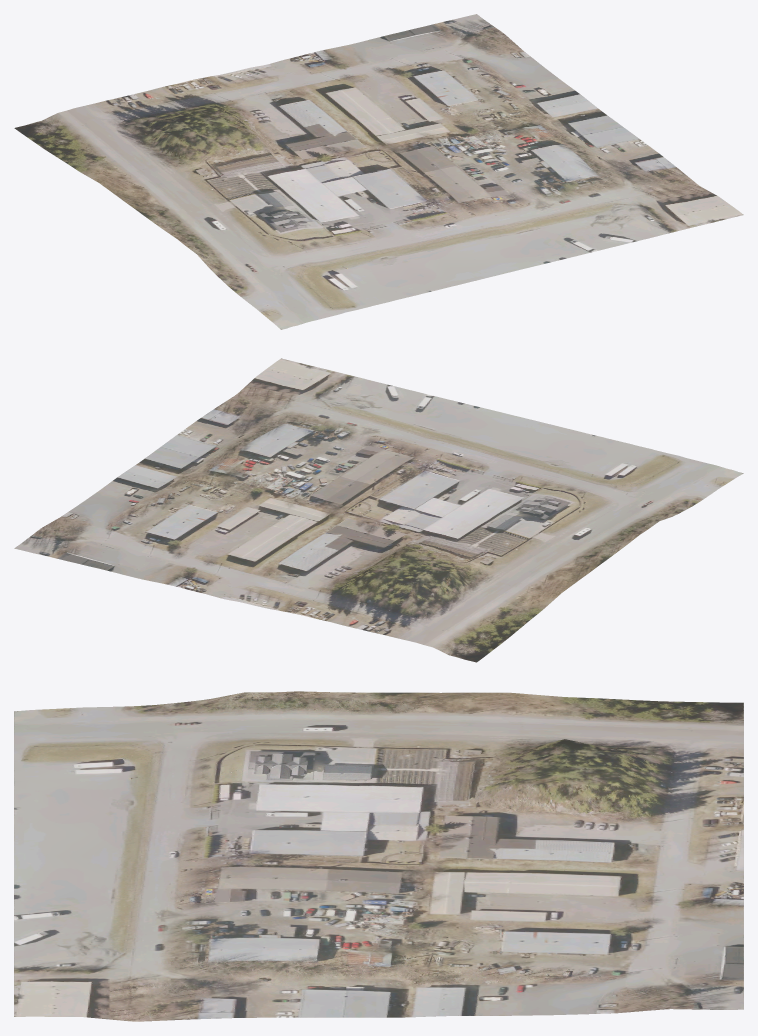
The model's file is CM_Terrain_24493735_6815698.fbx.
3 views of the same model, one above another, from view 1: azimuth 30°, elevation 25°; view 2: azimuth 150°, elevation 25°; view 3: azimuth 270°, elevation 25° (orthographic). The views are drawn at different scales.
Parts seen in each view (by area): view 1: CM_Terrain_24493735_6815698_LOD0; view 2: CM_Terrain_24493735_6815698_LOD0; view 3: CM_Terrain_24493735_6815698_LOD0.
Boxes of the visible parts, x1,y1,x2,y2 form: CM_Terrain_24493735_6815698_LOD0: [14, 14, 743, 329]; CM_Terrain_24493735_6815698_LOD0: [14, 358, 743, 662]; CM_Terrain_24493735_6815698_LOD0: [14, 691, 743, 1021].
Size of what is drawn, in the model's own units: 205 by 10.99 by 205.
